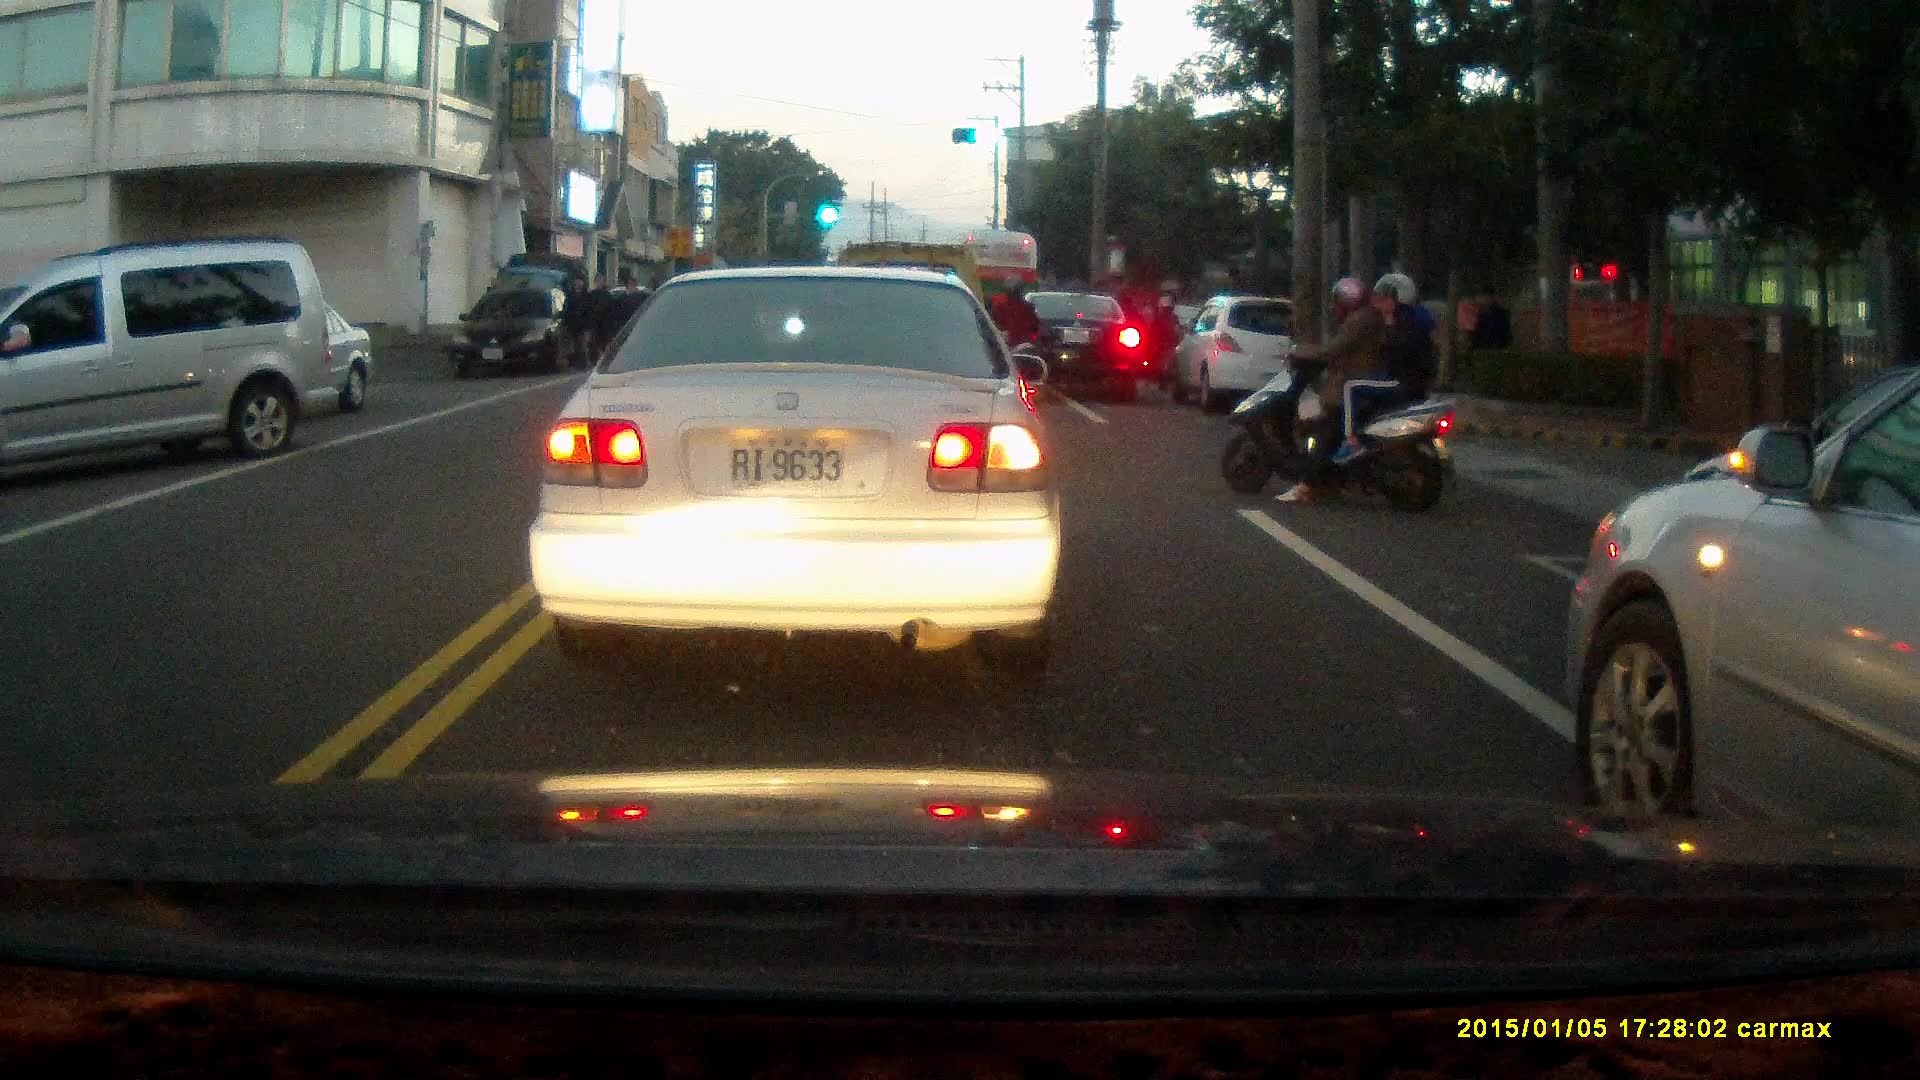pedestrian: (1466, 281, 1512, 382), (558, 270, 595, 374), (577, 272, 609, 375), (612, 275, 643, 363)
rider: (1213, 269, 1457, 520), (980, 270, 1043, 410), (1148, 291, 1185, 391)
vehicle: (527, 259, 1068, 682), (1565, 364, 1920, 852), (1, 243, 337, 481), (1179, 295, 1330, 404), (1007, 290, 1144, 401), (448, 284, 589, 381)
